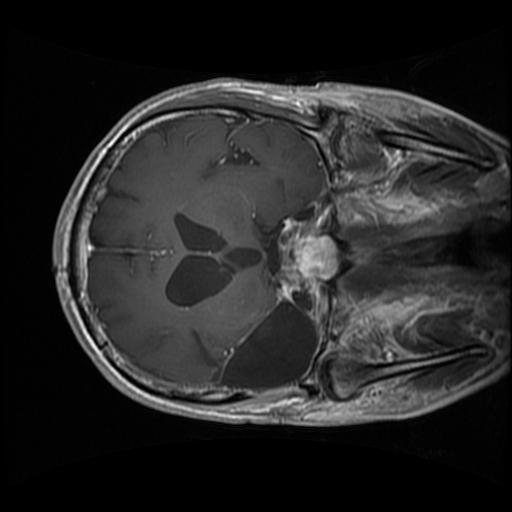glioma: (200, 298, 320, 397)
